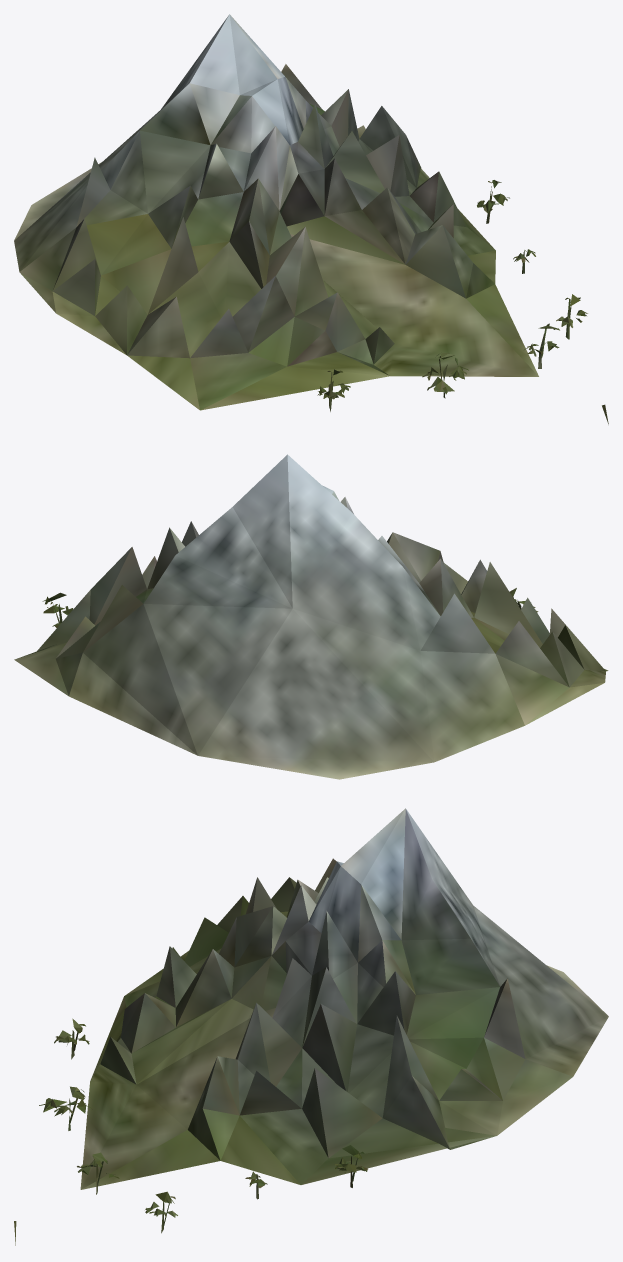
The model's file is mountain_game_lod2.glb.
3 views of the same model, one above another, from view 1: azimuth 30°, elevation 25°; view 2: azimuth 150°, elevation 25°; view 3: azimuth 270°, elevation 25° (orthographic). The views are drawn at different scales.
Parts seen in each view (by area): view 1: geometry_0; view 2: geometry_0; view 3: geometry_0.
Part boxes in pixels (x1,y1,x2,y2): geometry_0: (14, 14, 608, 424); geometry_0: (14, 454, 608, 779); geometry_0: (14, 808, 608, 1245).
Bounding box in the file's own units: 399 × 254 × 403.
Materials: 1 (1 with a texture image).
